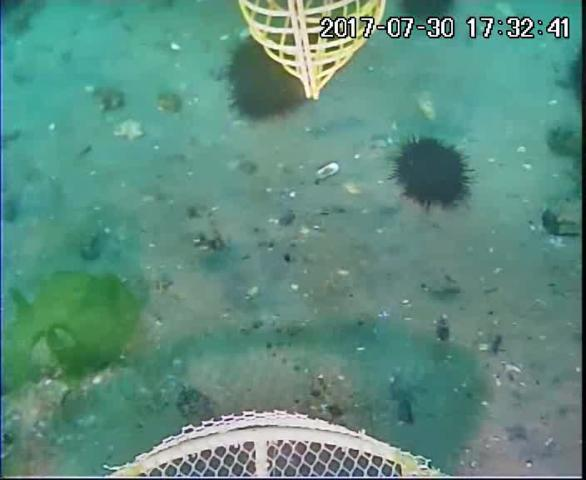echinus: (392, 131, 478, 216), (225, 40, 307, 120), (396, 1, 455, 26)
